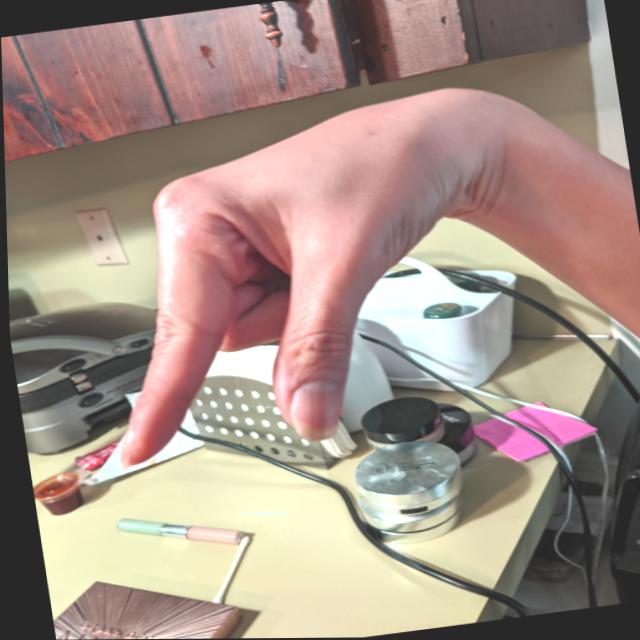Q: (54, 78, 490, 476)
